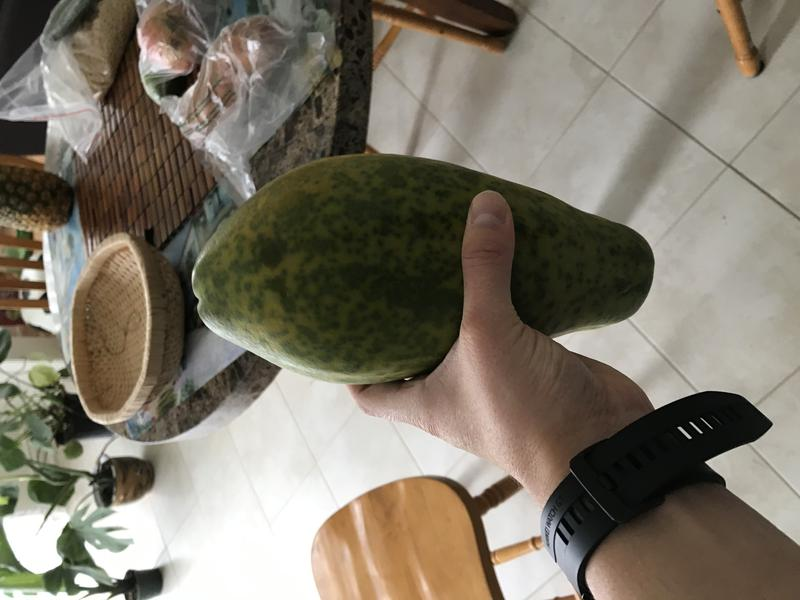papaya: (182, 145, 667, 398)
